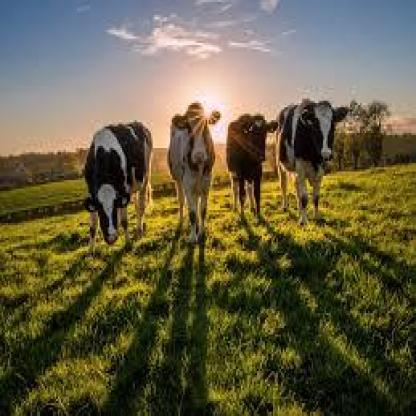cow: (82, 123, 153, 254), (276, 101, 349, 223), (169, 104, 220, 241), (226, 116, 276, 214)
